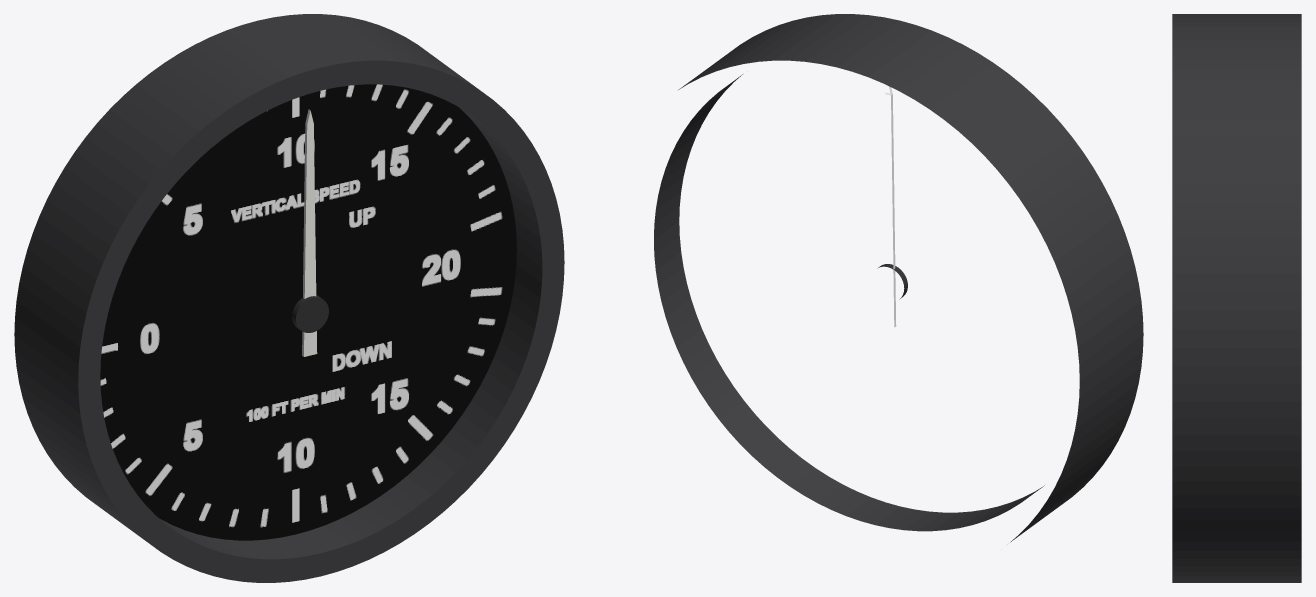
File: vertical-speed.glb
3 renders of one model, left to right at view 1: azimuth 30°, elevation 25°; view 2: azimuth 150°, elevation 25°; view 3: azimuth 270°, elevation 25°, orthographic.
Visible parts, largest first — view 1: VSI_Face, VSI_Bezel, VSI_Needle, VSI_Hub; view 2: VSI_Bezel; view 3: VSI_Bezel.
Boxes of the visible parts, x1,y1,x2,y2 form: VSI_Face: [100, 84, 516, 540]; VSI_Bezel: [14, 14, 564, 582]; VSI_Needle: [302, 109, 317, 356]; VSI_Hub: [292, 295, 328, 332]; VSI_Bezel: [654, 14, 1143, 542]; VSI_Bezel: [1172, 14, 1301, 582].
Size of the model in its own units: 2.2 by 2.2 by 0.5.
Materials: 4 (1 with a texture image).
